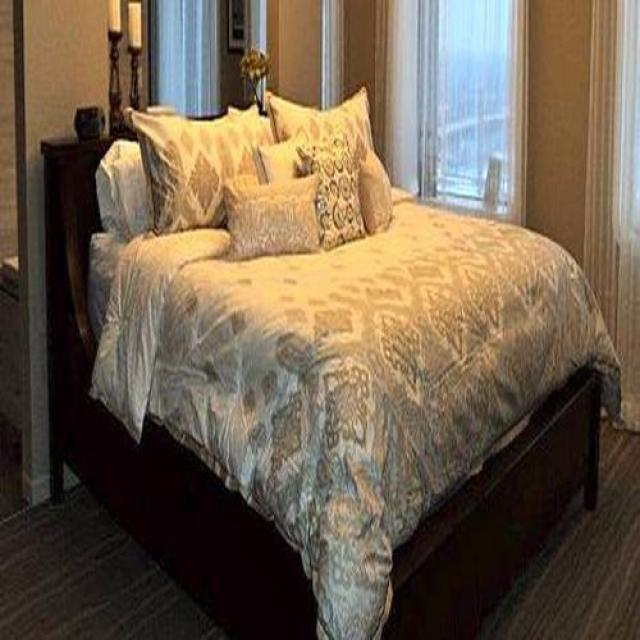bed: (44, 87, 621, 640)
